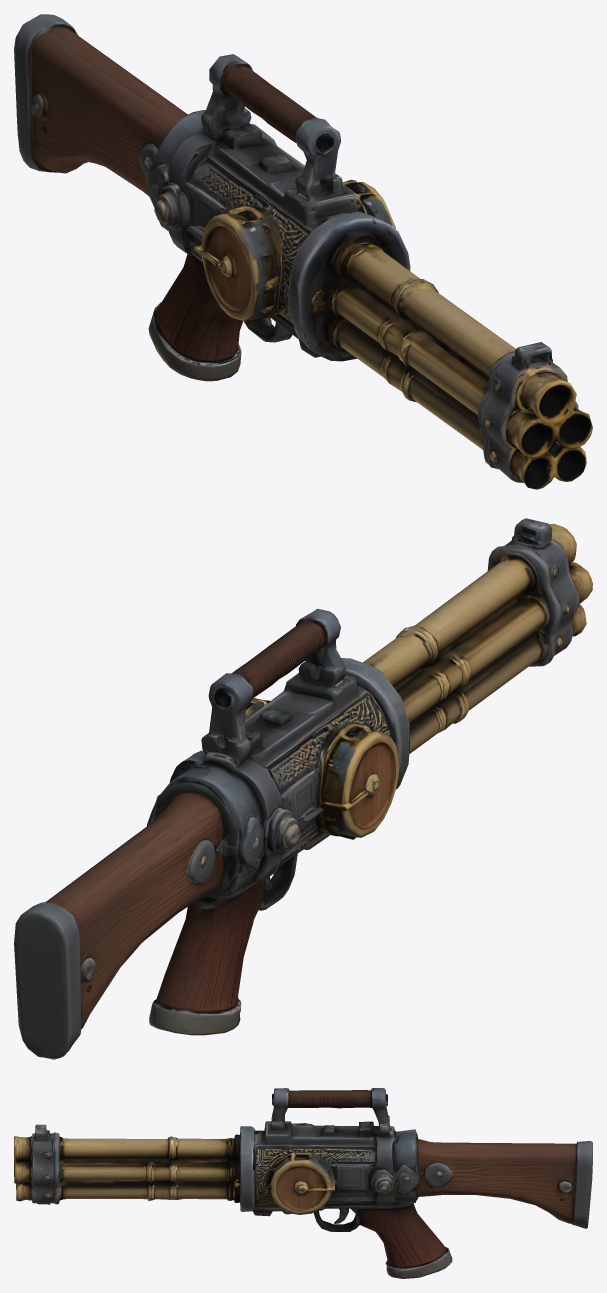
The model's file is hansha.glb.
The picture shows the model from 3 angles, top to bottom: view 1: azimuth 30°, elevation 25°; view 2: azimuth 150°, elevation 25°; view 3: azimuth 270°, elevation 25°; orthographic projection. The views are drawn at different scales.
Visible parts, largest first — view 1: convert; view 2: convert; view 3: convert.
Boxes of the visible parts, x1,y1,x2,y2 form: convert: [14, 14, 592, 489]; convert: [14, 518, 592, 1059]; convert: [14, 1088, 592, 1278].
Size of the model in its own units: 0.2023 by 0.4139 by 1.18.
1 material, 1 textured.
